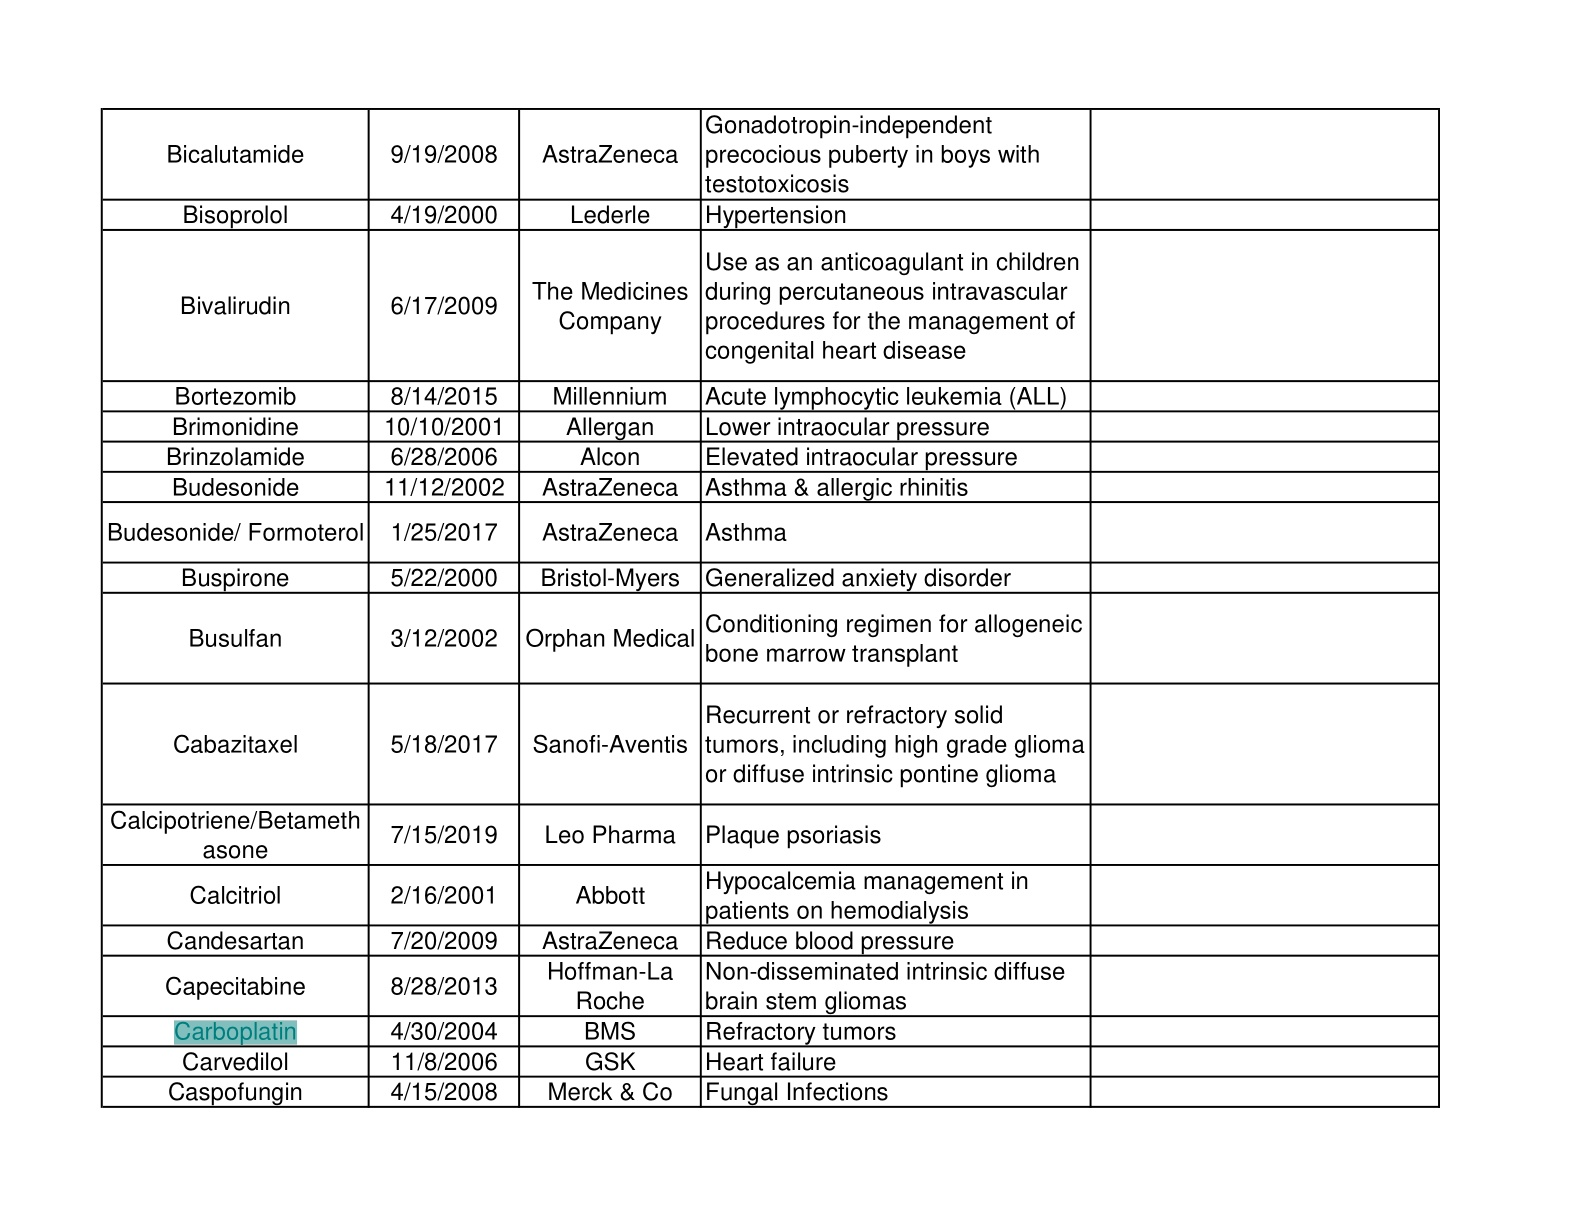full_lined: (100, 108, 1440, 1108)
